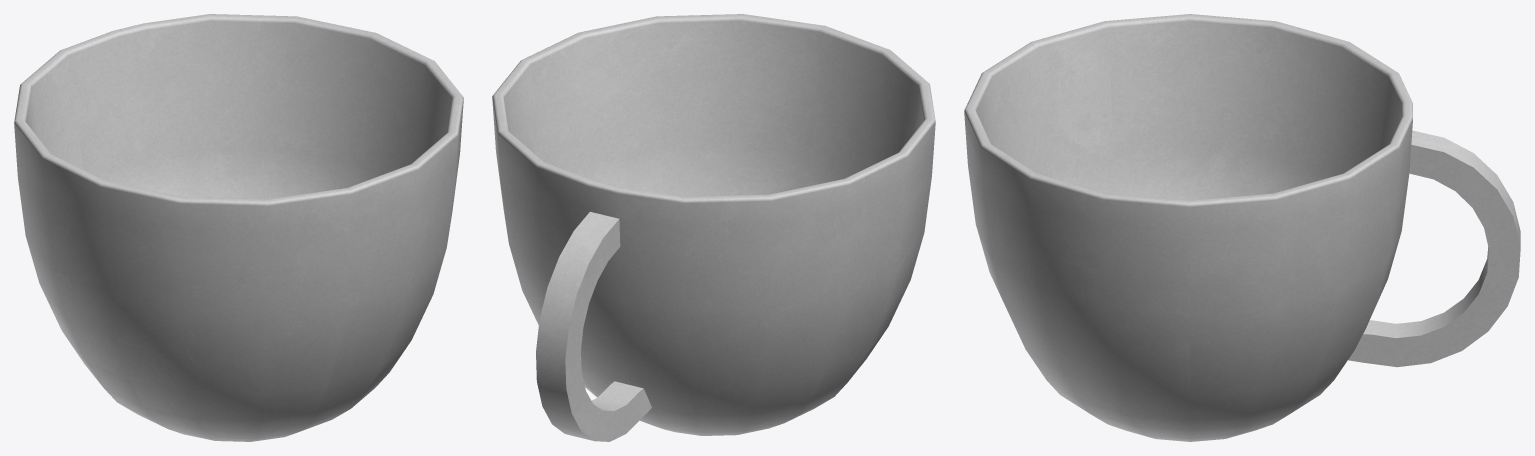
Rendered from coffee_cup.glb.
The picture shows the model from 3 angles, left to right: view 1: azimuth 30°, elevation 25°; view 2: azimuth 150°, elevation 25°; view 3: azimuth 270°, elevation 25°; orthographic projection.
Parts seen in each view (by area): view 1: coffee_cup; view 2: coffee_cup; view 3: coffee_cup.
Boxes of the visible parts, left/top/right/bottom form: coffee_cup: left=14, top=14, right=463, bottom=441; coffee_cup: left=492, top=14, right=935, bottom=441; coffee_cup: left=964, top=14, right=1520, bottom=441.
Size of the model in its own units: 0.0924 by 0.0696 by 0.1137.
1 material, 1 textured.
